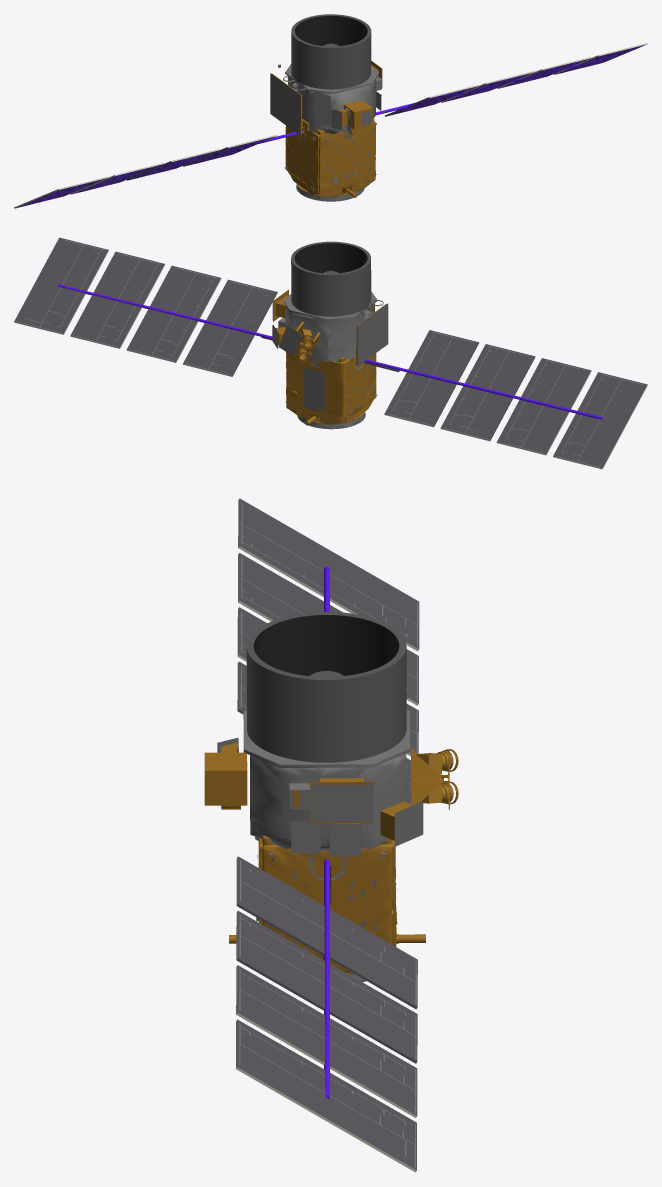
Rendered from spacecraft.obj.
3 views of the same model, one above another, from view 1: azimuth 30°, elevation 25°; view 2: azimuth 150°, elevation 25°; view 3: azimuth 270°, elevation 25° (orthographic). The views are drawn at different scales.
Parts seen in each view (by area): view 1: Mesh__node_19, Mesh__node_3, Mesh__node_1, Mesh__node_7, Mesh__node_5, Mesh__node_16, Mesh__node_18, Mesh, Mesh__node_17, Mesh__node_9, Mesh__node_10, Mesh__node_13 (+4 smaller); view 2: Mesh__node_16, Mesh__node_7, Mesh__node_19, Mesh__node_5, Mesh__node_1, Mesh__node_3, Mesh__node_18, Cylinder, Mesh__node_17, Mesh__node_2; view 3: Mesh__node_16, Mesh__node_7, Mesh__node_19, Mesh__node_1, Mesh__node_18, Mesh__node_2, Mesh__node_17, Cylinder, Mesh__node_5.
Part boxes in pixels (x1,y1,x2,y2): Mesh__node_19: (291, 14, 371, 89); Mesh__node_3: (285, 122, 376, 193); Mesh__node_1: (285, 65, 378, 197); Mesh__node_7: (263, 64, 399, 200); Mesh__node_5: (270, 73, 373, 187); Mesh__node_16: (15, 44, 646, 208); Mesh__node_18: (295, 15, 367, 45); Mesh: (17, 46, 642, 207); Mesh__node_17: (14, 43, 647, 208); Mesh__node_9: (19, 45, 645, 206); Mesh__node_10: (27, 48, 631, 204); Mesh__node_13: (22, 46, 640, 205); Mesh__node_16: (14, 237, 647, 468); Mesh__node_7: (16, 239, 642, 467); Mesh__node_19: (291, 241, 371, 316); Mesh__node_5: (272, 304, 388, 412); Mesh__node_1: (275, 295, 376, 424); Mesh__node_3: (286, 352, 376, 421); Mesh__node_18: (294, 243, 367, 273); Cylinder: (57, 284, 602, 419); Mesh__node_17: (14, 250, 647, 469); Mesh__node_2: (273, 289, 386, 425); Mesh__node_16: (236, 498, 419, 1170); Mesh__node_7: (239, 503, 420, 1167); Mesh__node_19: (246, 612, 406, 762); Mesh__node_1: (204, 742, 412, 974); Mesh__node_18: (253, 615, 399, 675); Mesh__node_2: (229, 748, 458, 943); Mesh__node_17: (236, 499, 418, 1172); Cylinder: (324, 566, 329, 1099); Mesh__node_5: (217, 737, 449, 950).
Bounding box in the file's own units: 228 × 57.74 × 42.73.
